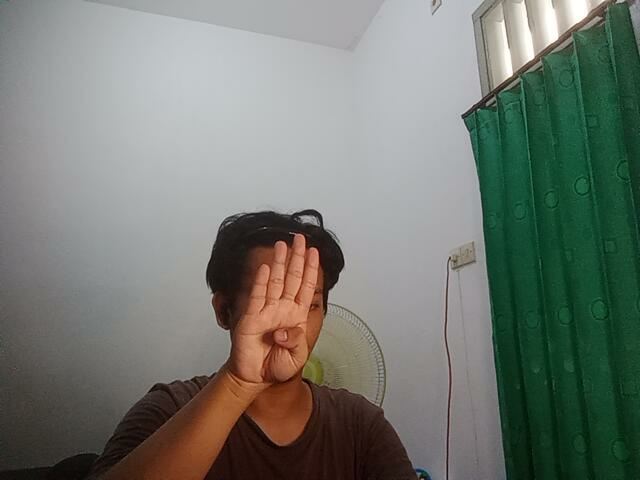B: (230, 230, 315, 392)
